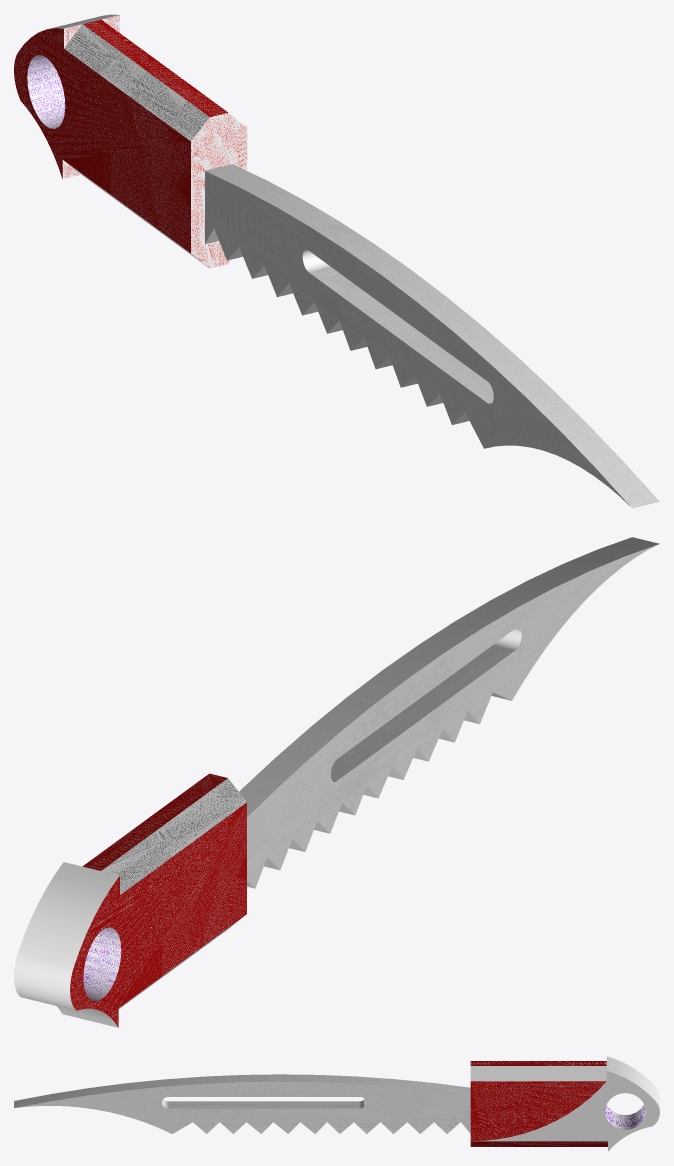
The model's file is model_align.obj.
3 renders of one model, top to bottom at view 1: azimuth 30°, elevation 25°; view 2: azimuth 150°, elevation 25°; view 3: azimuth 270°, elevation 25°, orthographic. The views are drawn at different scales.
Visible parts, largest first — view 1: mesh1_mesh1-geometry; view 2: mesh1_mesh1-geometry; view 3: mesh1_mesh1-geometry.
Boxes of the visible parts, left/top/right/bottom form: mesh1_mesh1-geometry: left=14, top=14, right=659, bottom=508; mesh1_mesh1-geometry: left=14, top=537, right=659, bottom=1027; mesh1_mesh1-geometry: left=14, top=1056, right=659, bottom=1151.
Size of the model in its own units: 0.0131 by 0.0337 by 0.244.
